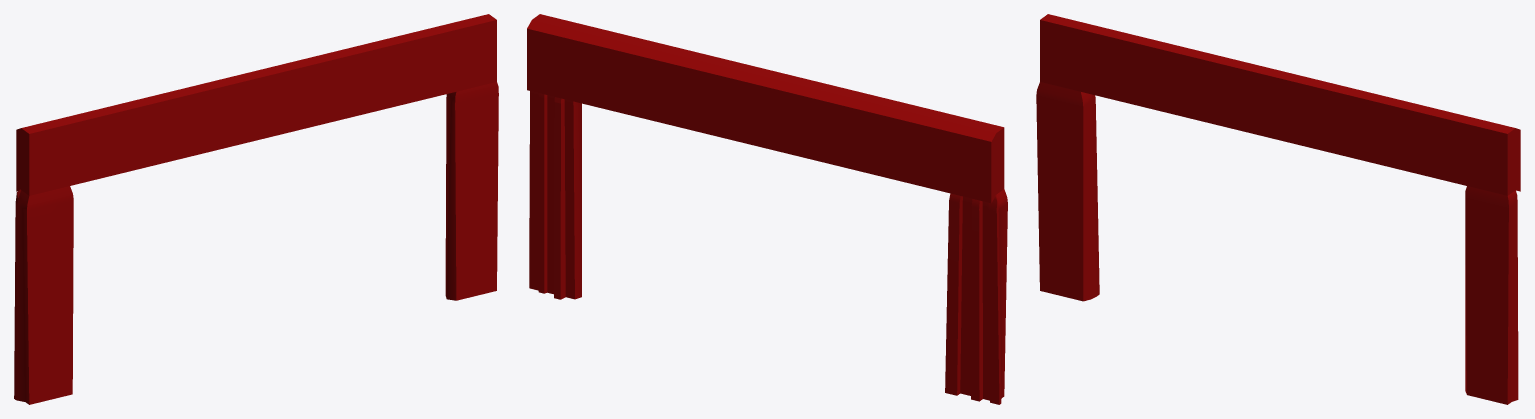
The model's file is TheaterGordijn.fbx.
3 views of the same model, side by side, from view 1: azimuth 30°, elevation 25°; view 2: azimuth 150°, elevation 25°; view 3: azimuth 330°, elevation 25° (orthographic).
Visible parts, largest first — view 1: gordijn; view 2: gordijn; view 3: gordijn.
Part boxes in pixels (bbox=[...]): gordijn: bbox=[14, 14, 498, 404]; gordijn: bbox=[527, 14, 1007, 404]; gordijn: bbox=[1036, 14, 1520, 404].
Bounding box in the file's own units: 42.65 × 23.22 × 2.11.
